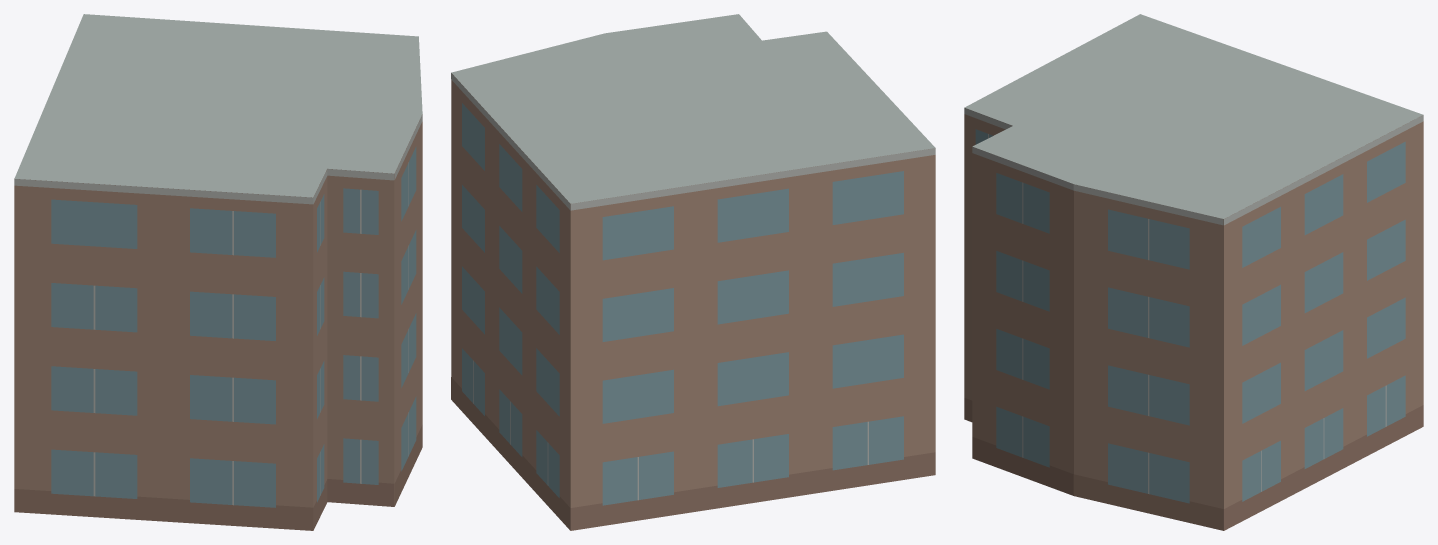
Rendered from survey-upis-32787396.glb.
The picture shows the model from 3 angles, left to right: view 1: azimuth 30°, elevation 25°; view 2: azimuth 150°, elevation 25°; view 3: azimuth 270°, elevation 25°; orthographic projection. The views are drawn at different scales.
Visible parts, largest first — view 1: survey-upis-32787396.tmp; view 2: survey-upis-32787396.tmp; view 3: survey-upis-32787396.tmp.
Boxes of the visible parts, x1,y1,x2,y2 form: survey-upis-32787396.tmp: (14, 14, 422, 530); survey-upis-32787396.tmp: (451, 14, 935, 530); survey-upis-32787396.tmp: (964, 14, 1423, 530).
Size of the model in its own units: 16.65 by 11.8 by 15.76.
